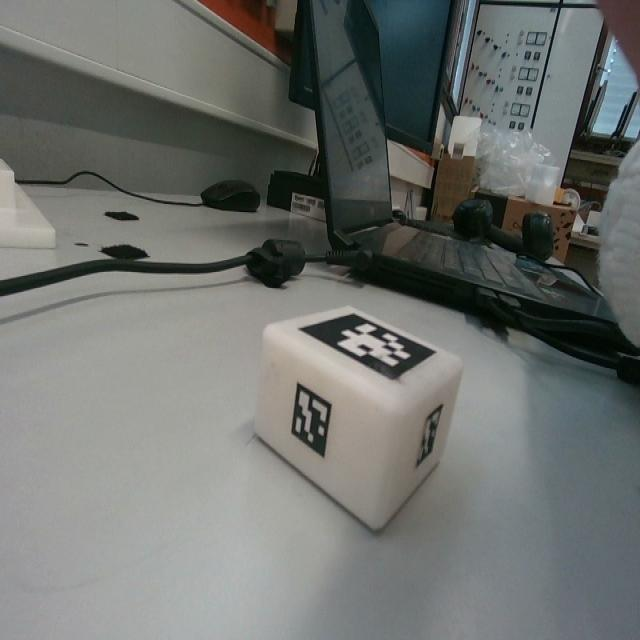Cube: (257, 302, 462, 534)
